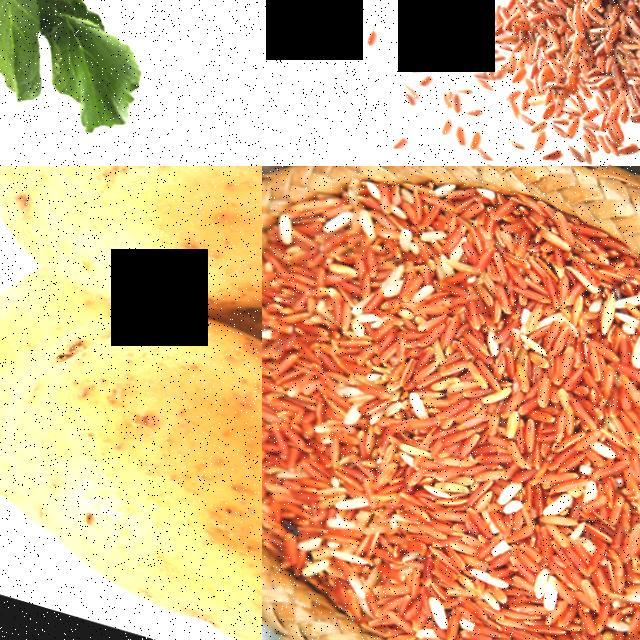potato: (0, 262, 262, 640), (0, 166, 262, 386)
radishes: (39, 0, 262, 44)
red rice: (262, 166, 640, 640), (461, 0, 640, 149)
